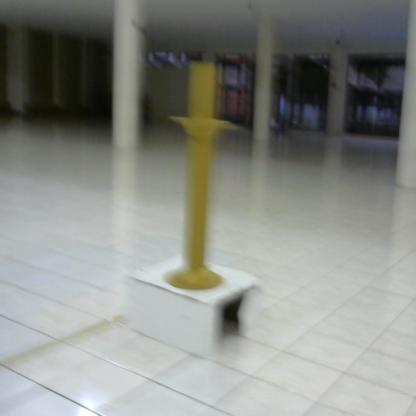pole: (157, 57, 246, 307)
